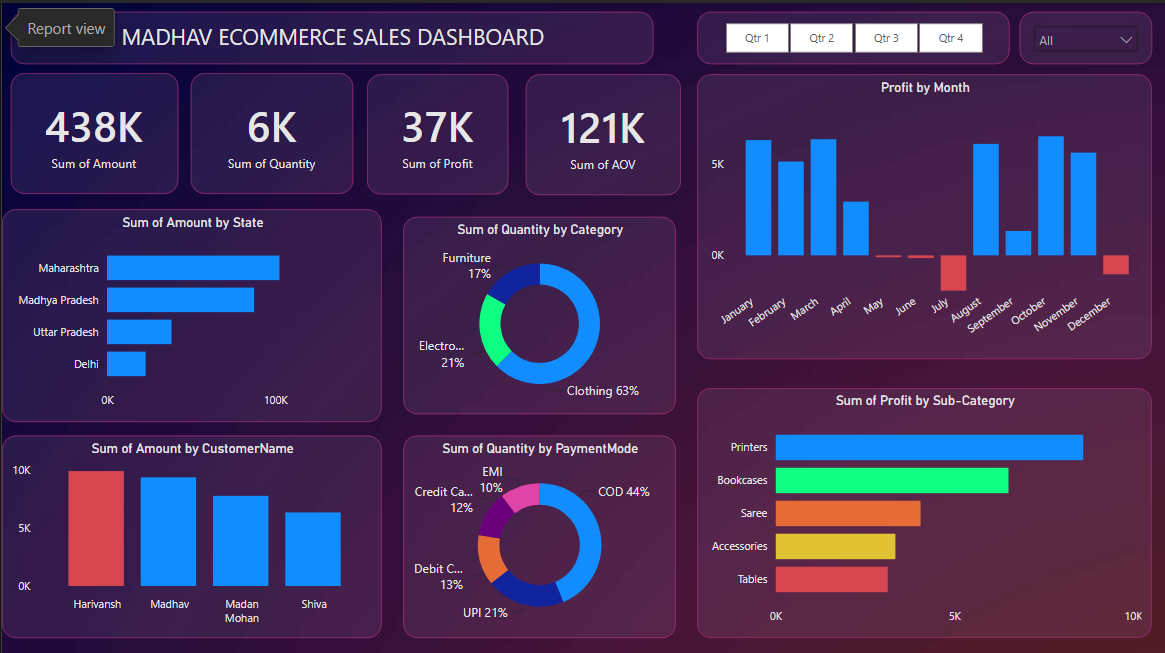

The page's visual inventory and layout, read from the dashboard file:
{"tool":"powerbi","page":{"name":"Page 1","canvas":[1280,720],"ordinal":0},"visuals":[{"type":"columnChart","title":"Profit by Month","fields":{"Y":["Sum(Details.Profit)"],"Category":["Orders.Order Date.Variation.Date Hierarchy.Month"]},"box":[763,78.2,499.5,312.9],"z":0},{"type":"textbox","box":[9.6,9.6,705.3,57.6],"z":1000},{"type":"barChart","fields":{"Category":["Details.Sub-Category"],"Y":["Sum(Details.Profit)"]},"box":[763,422.6,499.5,274.4],"z":2000},{"type":"donutChart","fields":{"Category":["Details.Category"],"Y":["Sum(Details.Quantity)"]},"box":[440.5,234.6,299.1,216.8],"z":3000},{"type":"donutChart","fields":{"Y":["Sum(Details.Quantity)"],"Category":["Details.PaymentMode"]},"box":[440.5,474.8,299.1,222.3],"z":4000},{"type":"cardVisual","fields":{"Data":["Sum(Details.Amount)"]},"box":[9.6,76.8,183.9,133.1],"z":5000},{"type":"cardVisual","fields":{"Data":["Sum(Details.Profit)"]},"box":[400.7,78.2,155.1,131.7],"z":6000},{"type":"cardVisual","fields":{"Data":["Sum(Details.AOV)"]},"box":[575,78.2,170.2,133.1],"z":7000},{"type":"cardVisual","fields":{"Data":["Sum(Details.Quantity)"]},"box":[207.2,76.8,178.4,133.1],"z":8000},{"type":"barChart","fields":{"Category":["Orders.State"],"Y":["Sum(Details.Amount)"]},"box":[0,226.4,417.2,233.3],"z":9000},{"type":"columnChart","fields":{"Category":["Orders.CustomerName"],"Y":["Sum(Details.Amount)"]},"box":[0,475,417,222],"z":10000},{"type":"slicer","fields":{"Values":["Orders.Order Date.Variation.Date Hierarchy.Quarter"]},"box":[763,9.6,343.1,57.6],"z":11000},{"type":"slicer","fields":{"Values":["Orders.State"]},"box":[1117,9.6,145.5,57.6],"z":12000}]}

Visuals, with their boxes on the page's 1280x720 design canvas (x1, y1, x2, y2). These are canvas units, not pixel positions in the 1165x653 screenshot, which may show the page scaled, cropped or inside an application window:
"Profit by Month" columnChart: (763,78,1262,391)
textbox: (10,10,715,67)
barChart - Details.Sub-Category x Sum(Details.Profit): (763,423,1262,697)
donutChart - Details.Category x Sum(Details.Quantity): (440,235,740,451)
donutChart - Sum(Details.Quantity) x Details.PaymentMode: (440,475,740,697)
cardVisual - Sum(Details.Amount): (10,77,194,210)
cardVisual - Sum(Details.Profit): (401,78,556,210)
cardVisual - Sum(Details.AOV): (575,78,745,211)
cardVisual - Sum(Details.Quantity): (207,77,386,210)
barChart - Orders.State x Sum(Details.Amount): (0,226,417,460)
columnChart - Orders.CustomerName x Sum(Details.Amount): (0,475,417,697)
slicer - Orders.Order Date.Variation.Date Hierarchy.Quarter: (763,10,1106,67)
slicer - Orders.State: (1117,10,1262,67)
